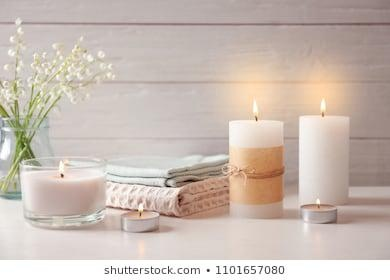fire: (54, 156, 67, 177), (249, 96, 260, 120), (317, 94, 328, 117), (132, 199, 146, 213)
